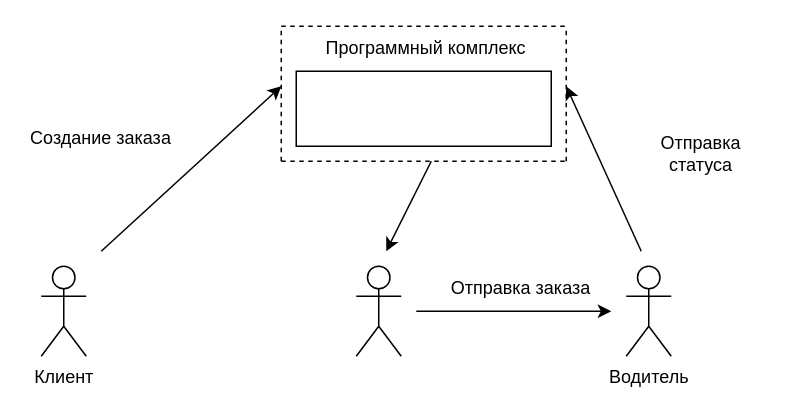
This 801x414 diagram has some shape labels left out. The shapes that lost their labels are listed below. From the top down, each one's centre as x and y in pixels, then its label:
At pixel 423 108: "Ведение базы данных".
At pixel 378 310: "Оператор".
